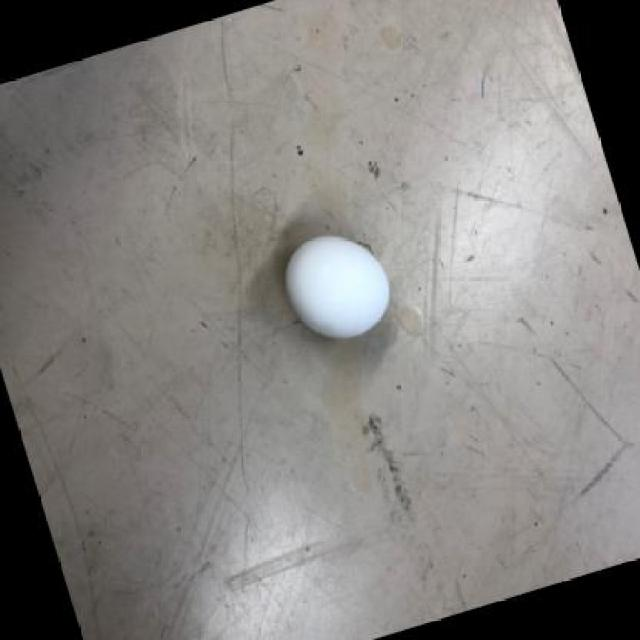egg: (283, 227, 402, 344)
